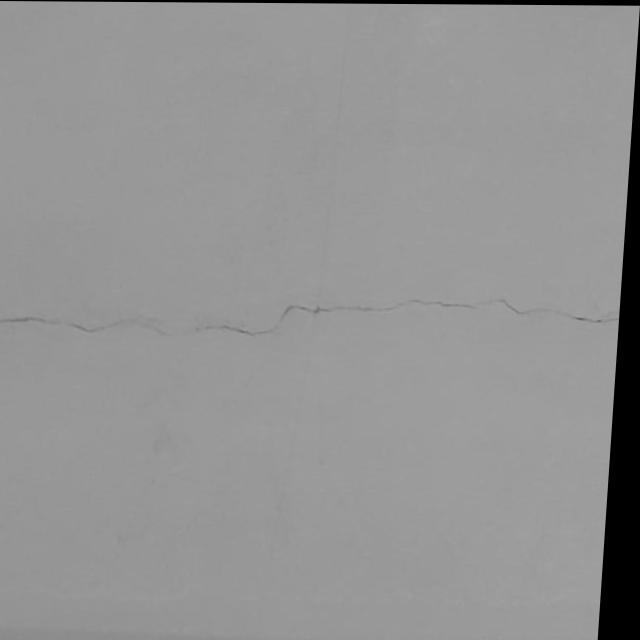Crack: (3, 290, 613, 340)
